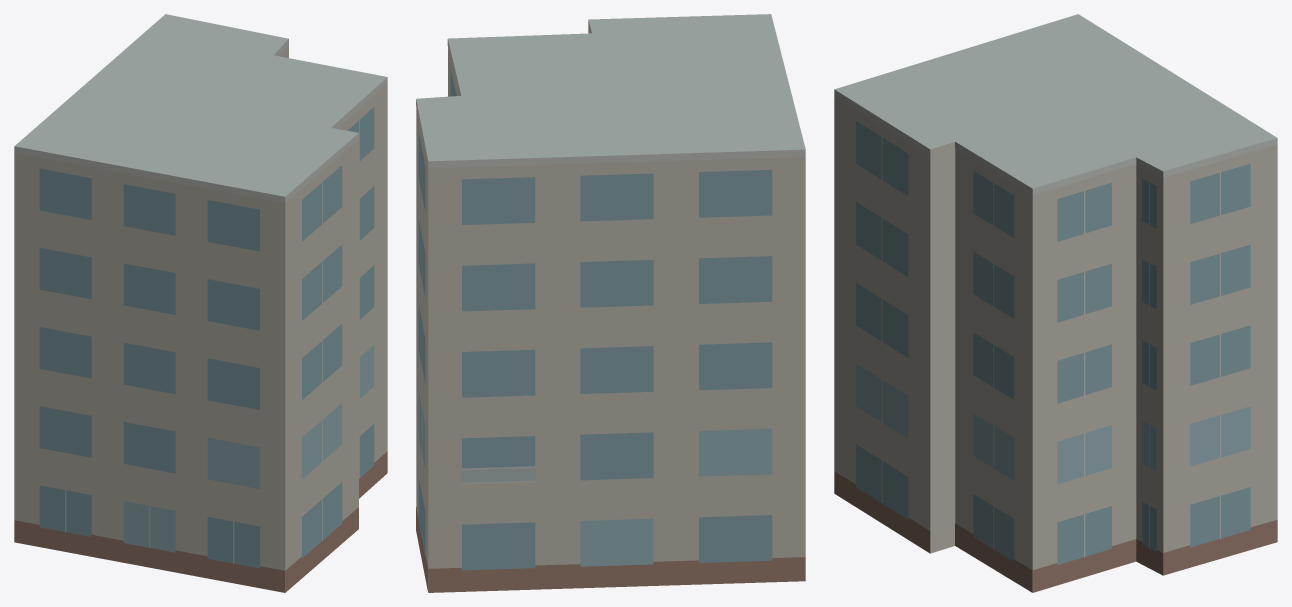
Rendered from survey-upis-32893460.glb.
3 views of the same model, side by side, from view 1: azimuth 30°, elevation 25°; view 2: azimuth 150°, elevation 25°; view 3: azimuth 270°, elevation 25° (orthographic). The views are drawn at different scales.
Parts seen in each view (by area): view 1: survey-upis-32893460.tmp; view 2: survey-upis-32893460.tmp; view 3: survey-upis-32893460.tmp.
Boxes of the visible parts, x1=… form: survey-upis-32893460.tmp: x1=14, y1=14, x2=387, y2=592; survey-upis-32893460.tmp: x1=416, y1=14, x2=805, y2=592; survey-upis-32893460.tmp: x1=834, y1=14, x2=1277, y2=592.
Size of the model in its own units: 14.01 by 15.1 by 15.02.
